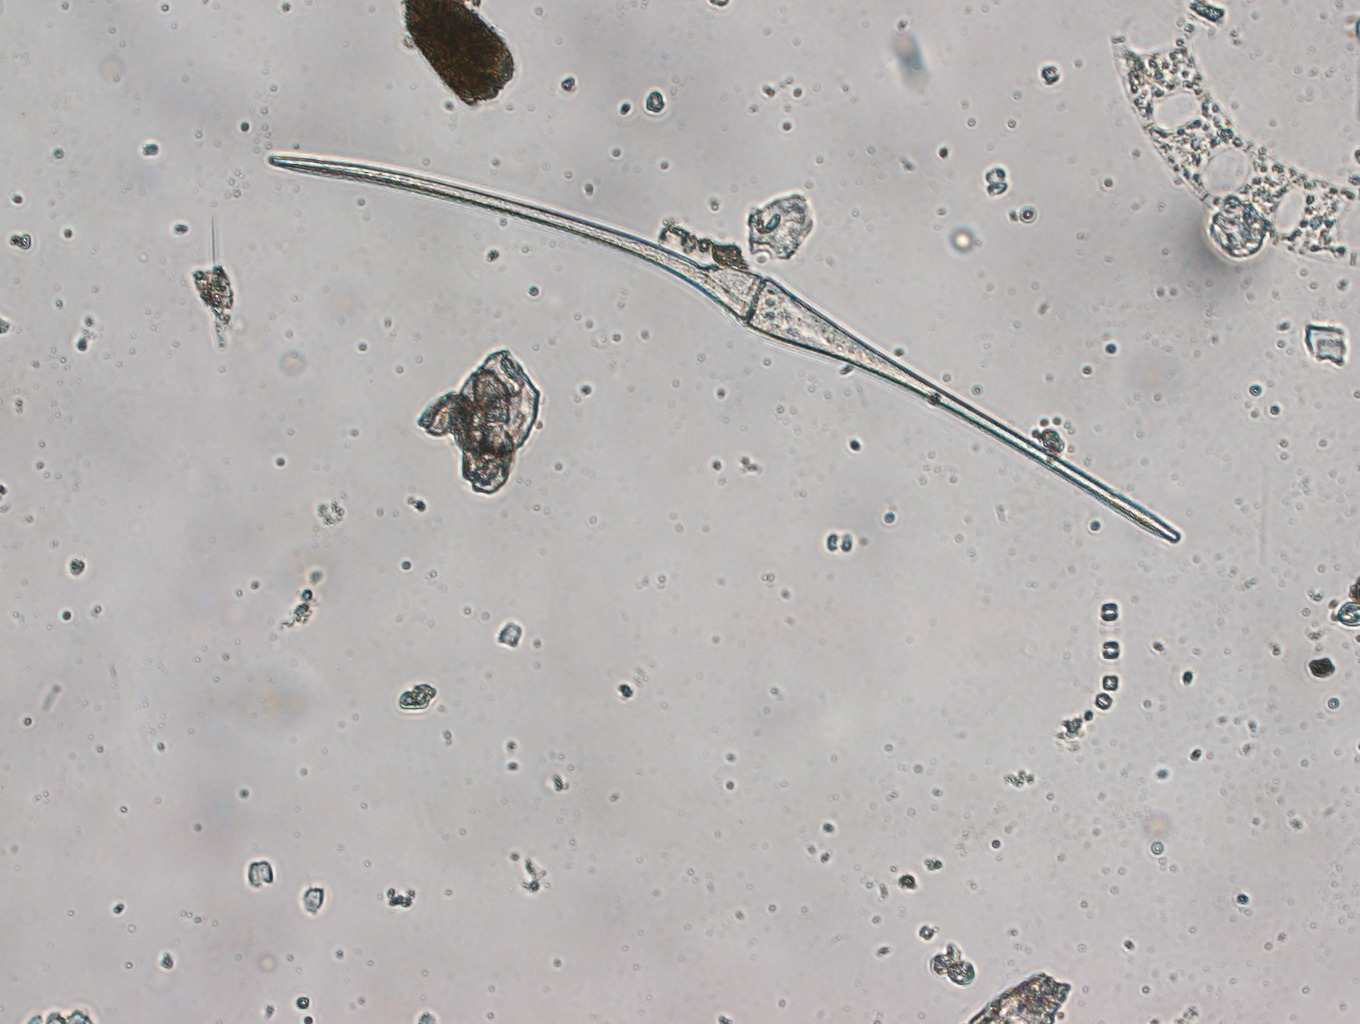ceratium fusus: (263, 151, 1185, 545)
eucampia: (1110, 24, 1360, 257)
